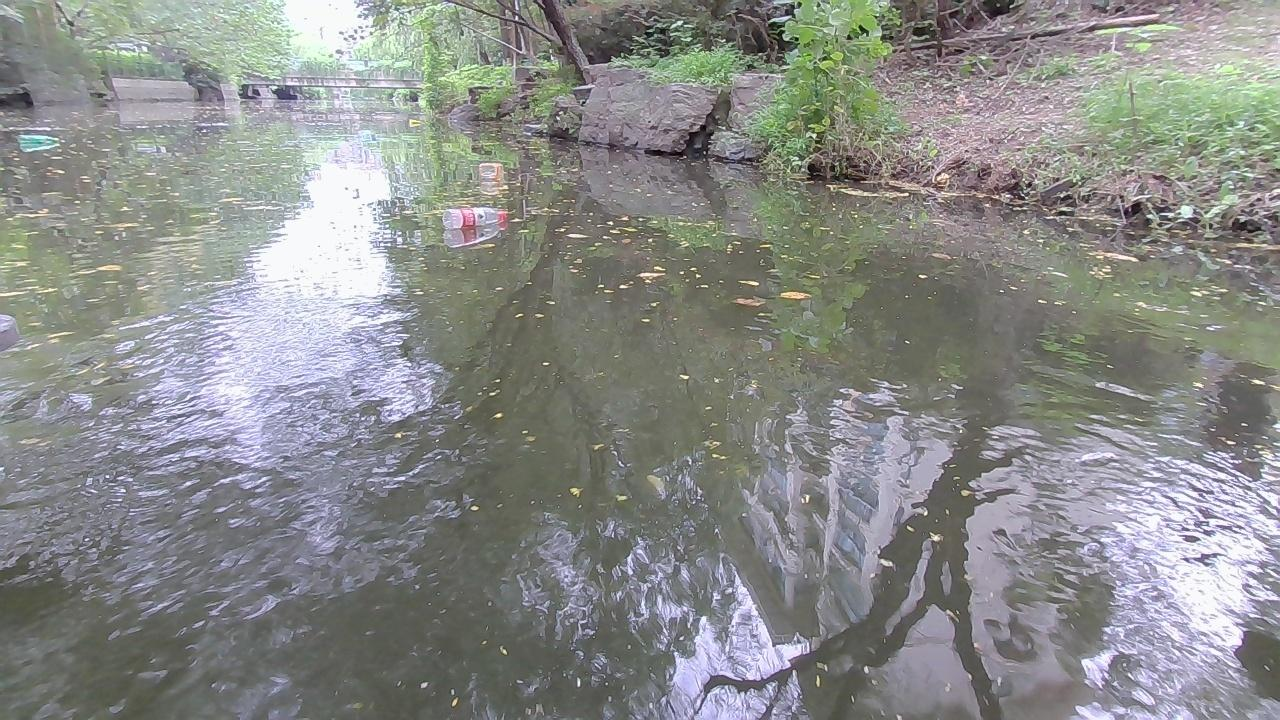bottle: (440, 203, 508, 224), (16, 131, 65, 144), (477, 160, 506, 178), (406, 116, 415, 124)
